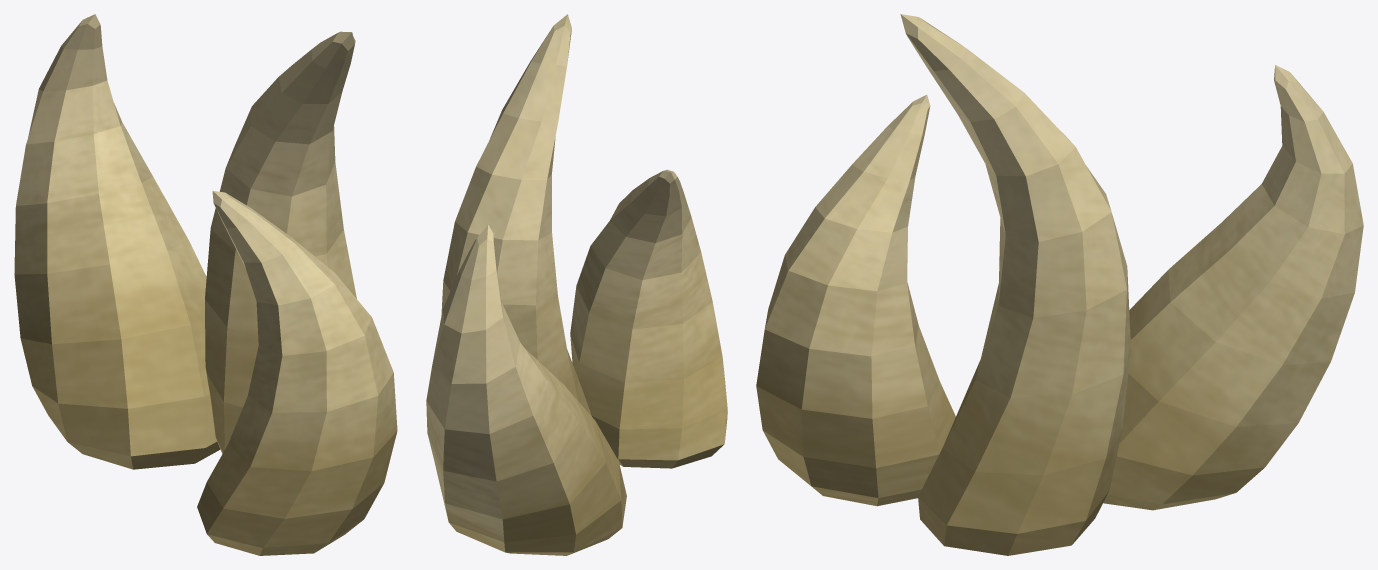
Rendered from F_Thorns_1.fbx.
3 renders of one model, left to right at view 1: azimuth 30°, elevation 25°; view 2: azimuth 150°, elevation 25°; view 3: azimuth 270°, elevation 25°, orthographic. The views are drawn at different scales.
Parts seen in each view (by area): view 1: F_Thorns_1; view 2: F_Thorns_1; view 3: F_Thorns_1.
Boxes of the visible parts, bbox=[...] form: F_Thorns_1: bbox=[14, 14, 397, 555]; F_Thorns_1: bbox=[426, 14, 727, 555]; F_Thorns_1: bbox=[756, 14, 1363, 555].
Bounding box in the file's own units: 1.28 × 1.18 × 0.671.
1 material, 1 textured.
